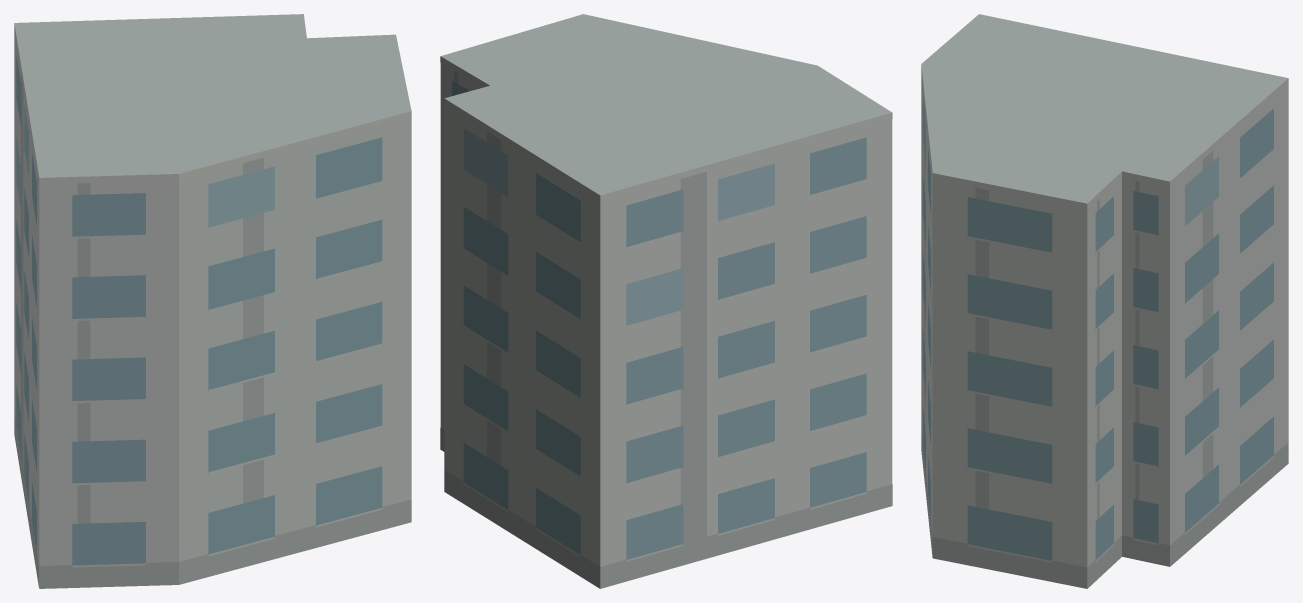
The model's file is residential-f51b5b18-b872-4214-a04b-cccb9fd067e8.glb.
The picture shows the model from 3 angles, left to right: view 1: azimuth 30°, elevation 25°; view 2: azimuth 150°, elevation 25°; view 3: azimuth 270°, elevation 25°; orthographic projection. The views are drawn at different scales.
Parts seen in each view (by area): view 1: residential-f51b5b18-b872-4214-a04b-cccb9fd067e8.tmp; view 2: residential-f51b5b18-b872-4214-a04b-cccb9fd067e8.tmp; view 3: residential-f51b5b18-b872-4214-a04b-cccb9fd067e8.tmp.
Part boxes in pixels (left/top/right/bottom): residential-f51b5b18-b872-4214-a04b-cccb9fd067e8.tmp: left=14, top=14, right=411, bottom=588; residential-f51b5b18-b872-4214-a04b-cccb9fd067e8.tmp: left=440, top=14, right=892, bottom=588; residential-f51b5b18-b872-4214-a04b-cccb9fd067e8.tmp: left=921, top=14, right=1288, bottom=588.
Size of the model in its own units: 15.84 by 15 by 12.97.
